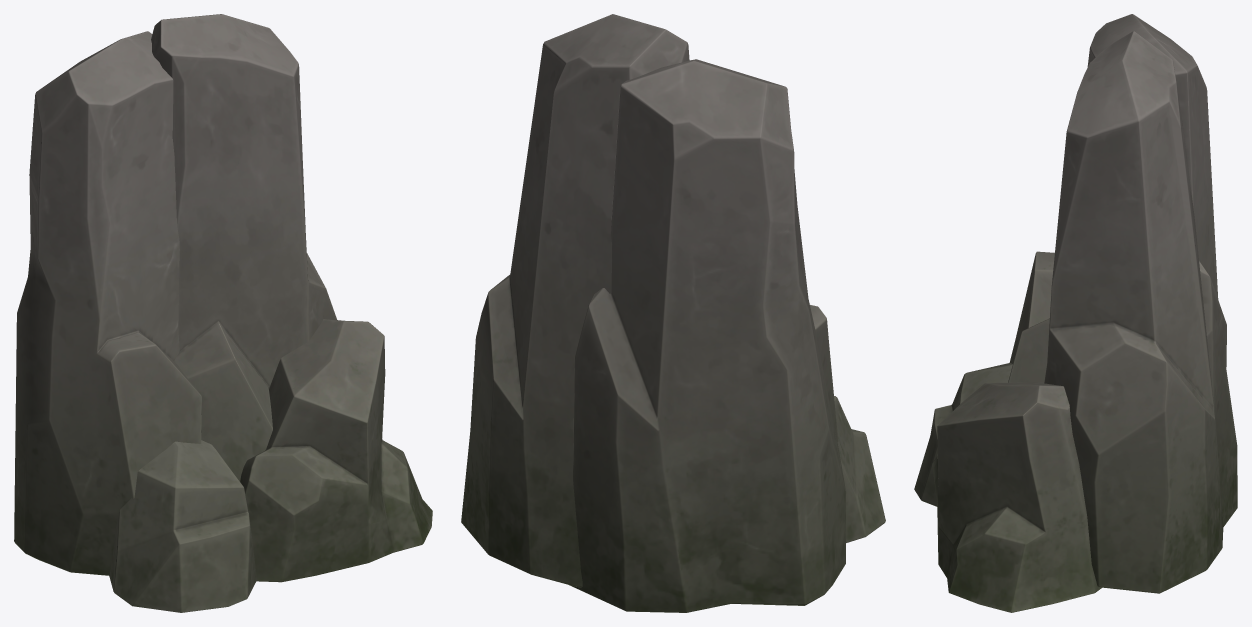
File: AP2_Rock17.glb
3 views of the same model, side by side, from view 1: azimuth 30°, elevation 25°; view 2: azimuth 150°, elevation 25°; view 3: azimuth 270°, elevation 25° (orthographic). The views are drawn at different scales.
Visible parts, largest first — view 1: Rock17_LOD0; view 2: Rock17_LOD0; view 3: Rock17_LOD0.
Boxes of the visible parts, box(x1,y1,x2,y2) form: Rock17_LOD0: box(14, 14, 432, 612); Rock17_LOD0: box(461, 14, 885, 612); Rock17_LOD0: box(914, 14, 1237, 612).
Bounding box in the file's own units: 5.97 × 8.1 × 4.9.
1 material, 1 textured.
